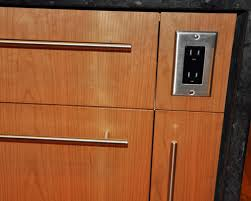outlet: (187, 47, 201, 61), (186, 70, 199, 84)
